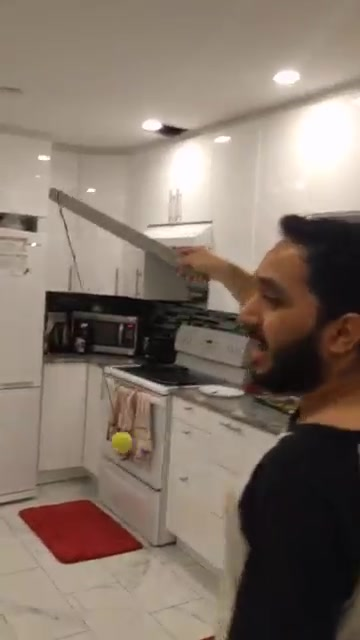tennis_ball: (110, 429, 134, 453)
